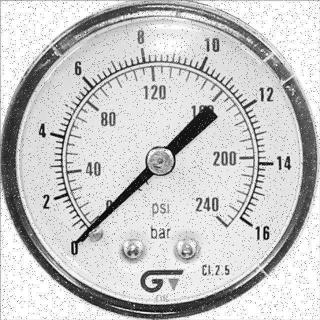gauge: (0, 0, 320, 320), (145, 144, 176, 176), (66, 225, 96, 258), (234, 212, 266, 242), (72, 229, 91, 247)
